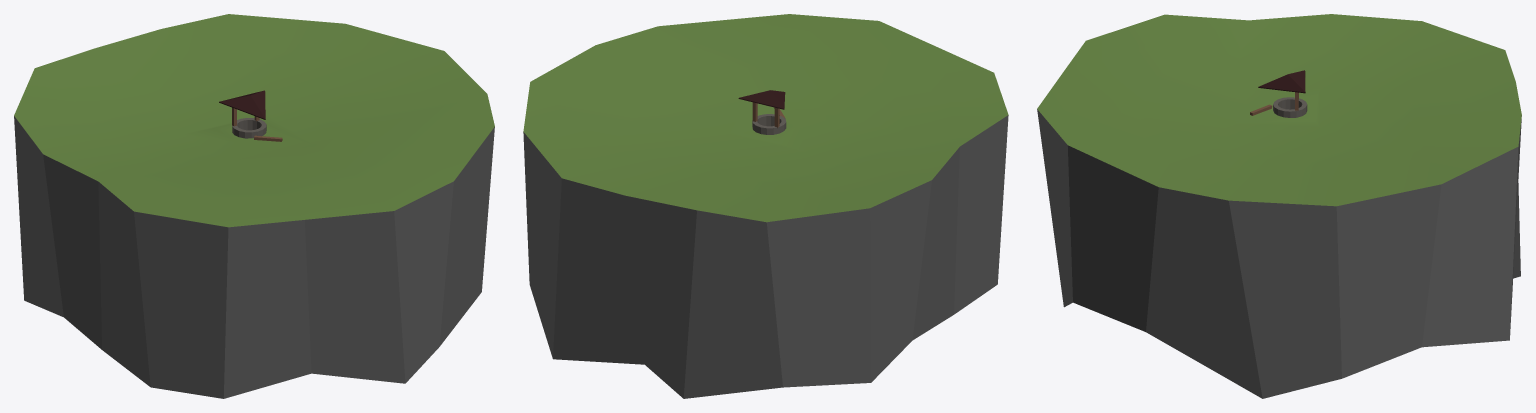
The model's file is terrain.gltf.
The picture shows the model from 3 angles, left to right: view 1: azimuth 30°, elevation 25°; view 2: azimuth 150°, elevation 25°; view 3: azimuth 270°, elevation 25°; orthographic projection.
Visible parts, largest first — view 1: Terrain, Well; view 2: Terrain, Well; view 3: Terrain, Well.
Part boxes in pixels (x1,y1,x2,y2): Terrain: (14, 14, 494, 398); Well: (219, 90, 282, 141); Terrain: (523, 14, 1008, 398); Well: (738, 90, 786, 134); Terrain: (1037, 14, 1521, 398); Well: (1250, 70, 1307, 117).
Size of the model in its own units: 48.38 by 25.99 by 50.83.
